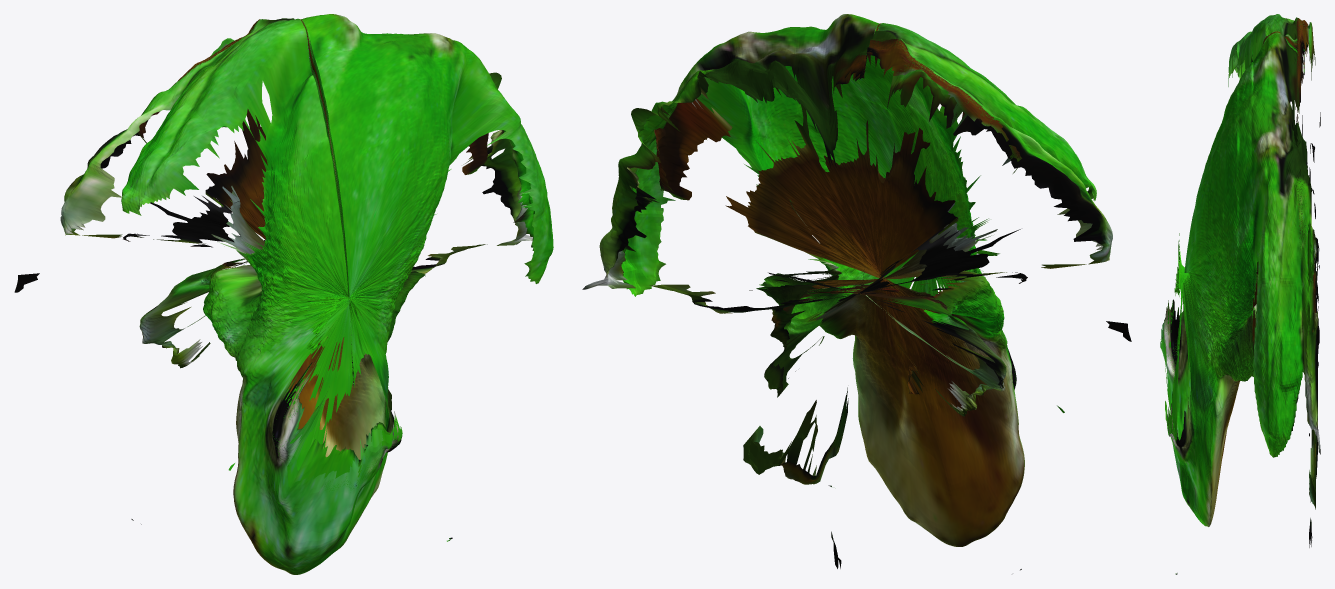
3 renders of one model, left to right at view 1: azimuth 30°, elevation 25°; view 2: azimuth 150°, elevation 25°; view 3: azimuth 270°, elevation 25°, orthographic. The views are drawn at different scales.
Parts seen in each view (by area): view 1: geometry_0; view 2: geometry_0; view 3: geometry_0.
Boxes of the visible parts, bbox=[...] form: geometry_0: bbox=[14, 14, 553, 574]; geometry_0: bbox=[582, 14, 1131, 570]; geometry_0: bbox=[1160, 14, 1320, 574].
Bounding box in the file's own units: 1.97 × 1.86 × 0.5284.
1 material, 1 textured.
